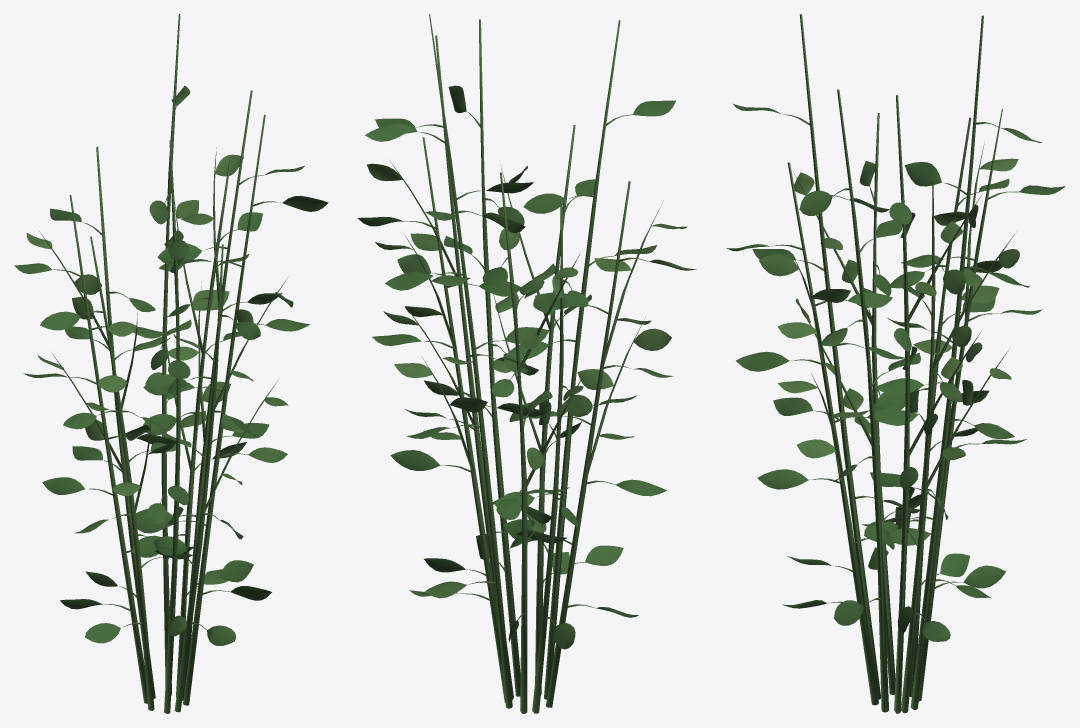
File: Fragon_1_Niveau0.fbx
3 renders of one model, left to right at view 1: azimuth 30°, elevation 25°; view 2: azimuth 150°, elevation 25°; view 3: azimuth 270°, elevation 25°, orthographic. The views are drawn at different scales.
Parts seen in each view (by area): view 1: Fragon_1_Niveau0; view 2: Fragon_1_Niveau0; view 3: Fragon_1_Niveau0.
Part boxes in pixels (box(x1,y1,x2,y2)): Fragon_1_Niveau0: box(14, 14, 328, 713); Fragon_1_Niveau0: box(357, 14, 696, 713); Fragon_1_Niveau0: box(726, 14, 1065, 713).
Size of the model in its own units: 32.95 by 72.75 by 31.32.
